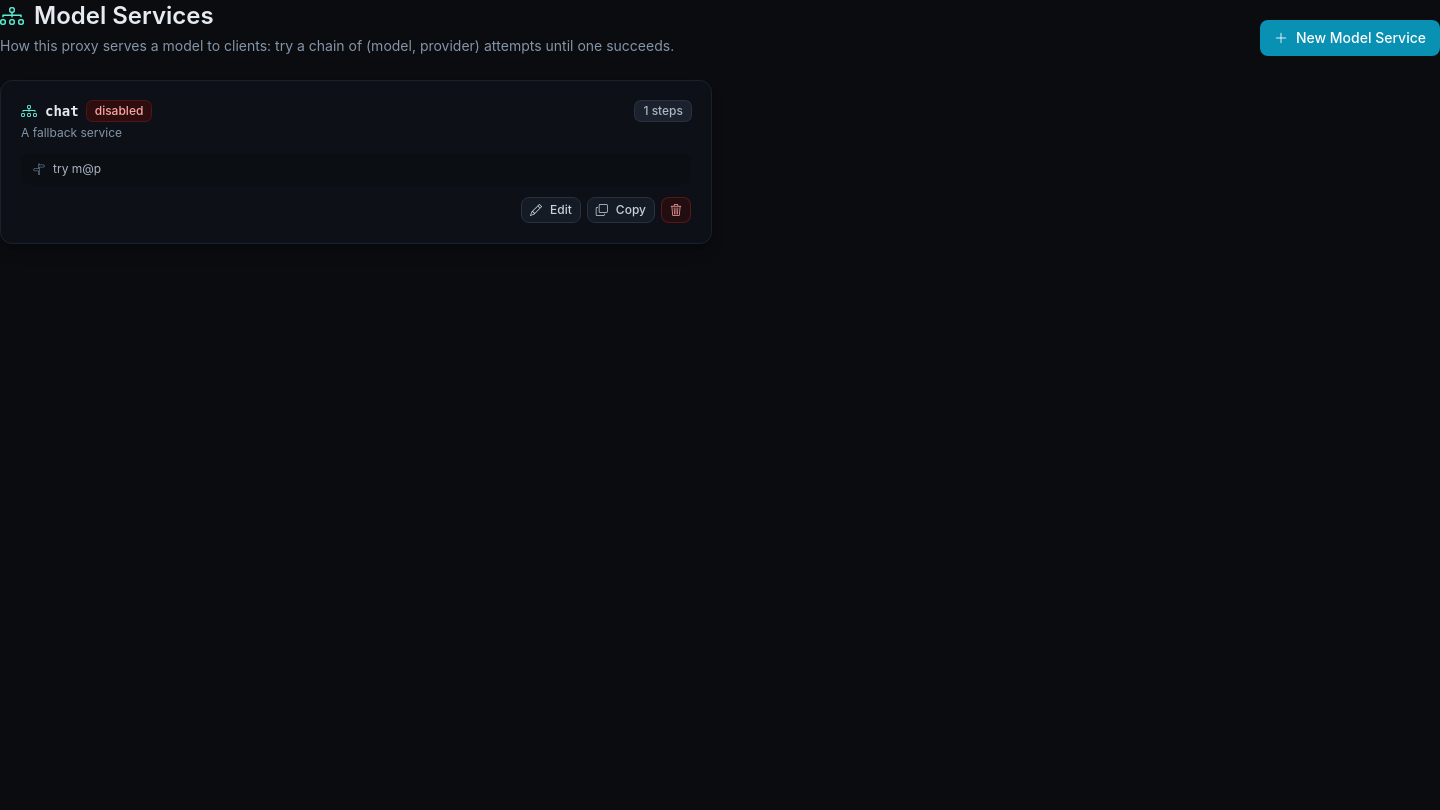
Test case: Model Service and Micro Agent copies › keeps the name and modal open when copying fails
The image size is (1440, 810).
Click the button "Copy". click: click(621, 210)
box: top-left (587, 197), bottom-right (655, 223)
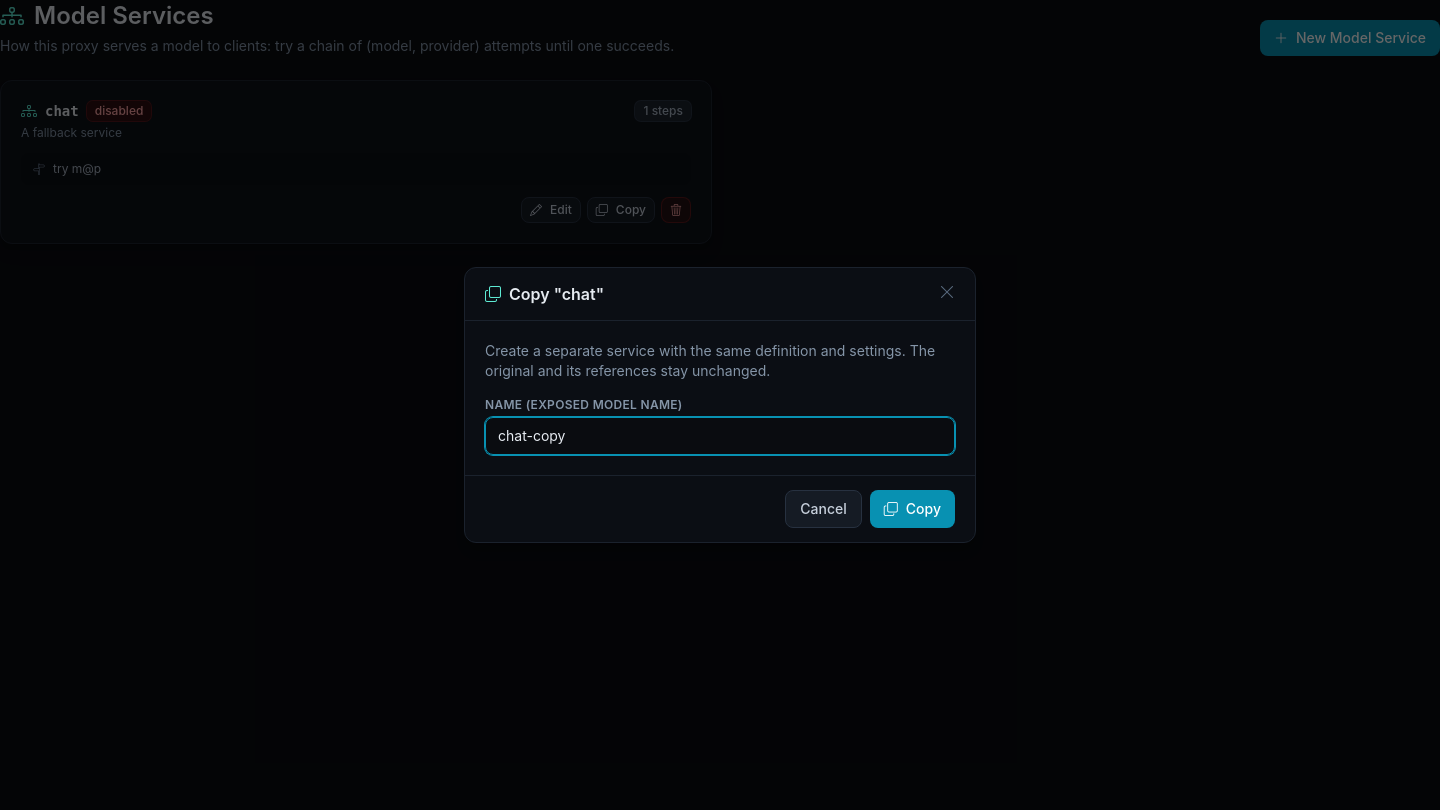
Click the button "Copy". click: click(912, 509)
box: top-left (870, 490), bottom-right (955, 528)
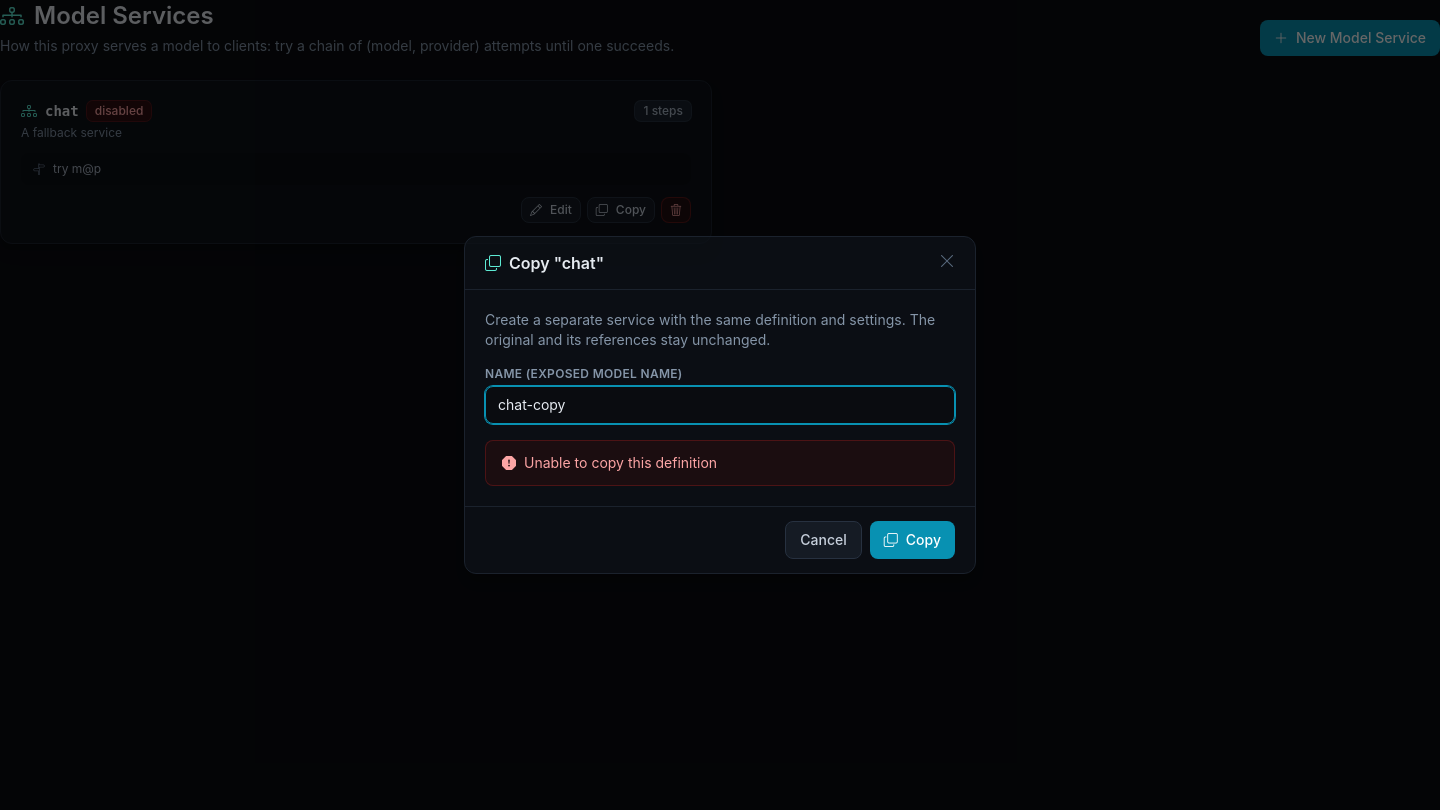
Result: the heading "Copy \"chat\"" is shown at top-left (485, 251), bottom-right (604, 275)
Result: the field labelled "Name (exposed model name)" holds "chat-copy" at top-left (485, 386), bottom-right (955, 424)
Result: the text "Unable to copy this definition" is shown at top-left (485, 440), bottom-right (955, 486)
